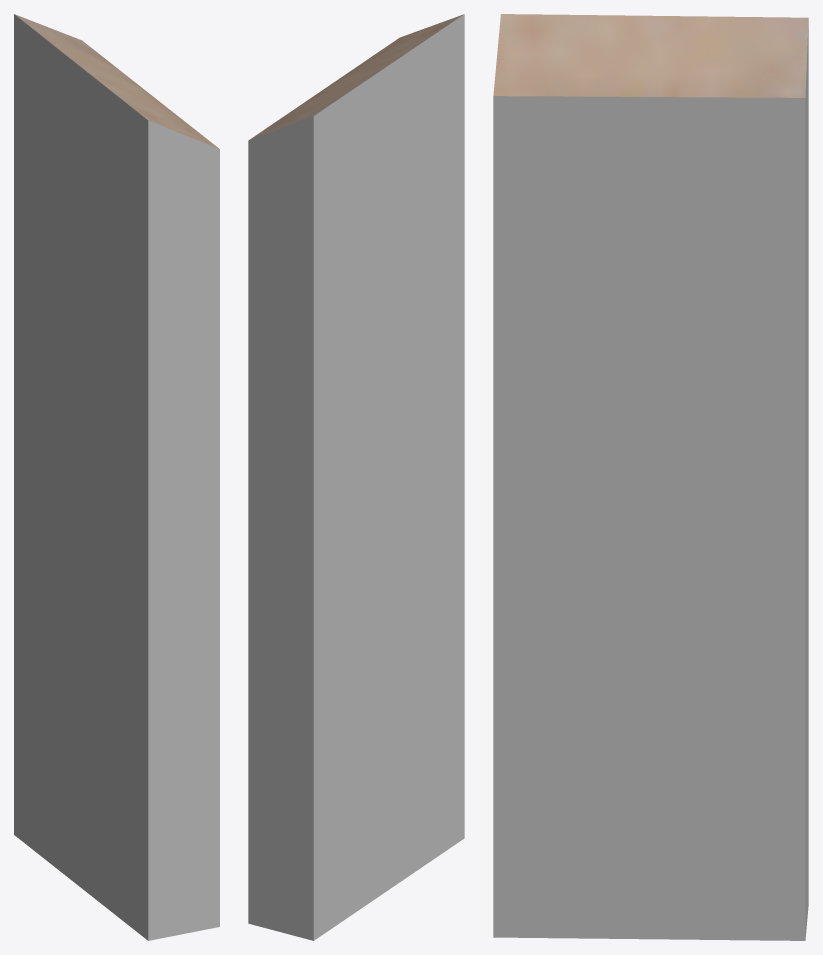
The model's file is DEBW_0010007THY1.gltf.
3 renders of one model, left to right at view 1: azimuth 30°, elevation 25°; view 2: azimuth 150°, elevation 25°; view 3: azimuth 270°, elevation 25°, orthographic. The views are drawn at different scales.
Parts seen in each view (by area): view 1: Z_UP; view 2: Z_UP; view 3: Z_UP.
Part boxes in pixels (x1=…): Z_UP: x1=14, y1=14, x2=219, y2=940; Z_UP: x1=248, y1=14, x2=464, y2=940; Z_UP: x1=493, y1=14, x2=808, y2=940.
Bounding box in the file's own units: 1.49 × 15.67 × 5.04.
Materials: 2 (1 with a texture image).
